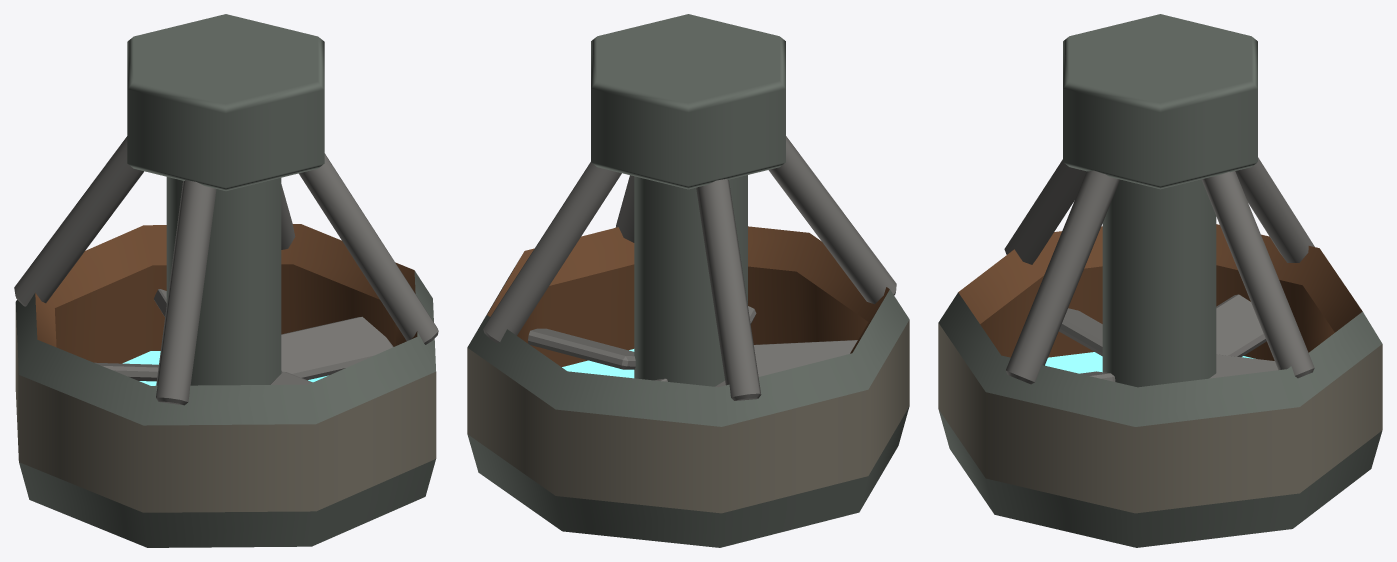
Rendered from R4X_HoverEngine_LOD1.fbx.
3 renders of one model, left to right at view 1: azimuth 30°, elevation 25°; view 2: azimuth 150°, elevation 25°; view 3: azimuth 270°, elevation 25°, orthographic.
Visible parts, largest first — view 1: R4X_HoverEngine_LOD1; view 2: R4X_HoverEngine_LOD1; view 3: R4X_HoverEngine_LOD1.
Boxes of the visible parts, box(x1,y1,x2,y2) form: R4X_HoverEngine_LOD1: box(14, 14, 438, 547); R4X_HoverEngine_LOD1: box(467, 14, 909, 547); R4X_HoverEngine_LOD1: box(938, 14, 1382, 547).
Bounding box in the file's own units: 0.5127 × 0.52 × 0.5127.
